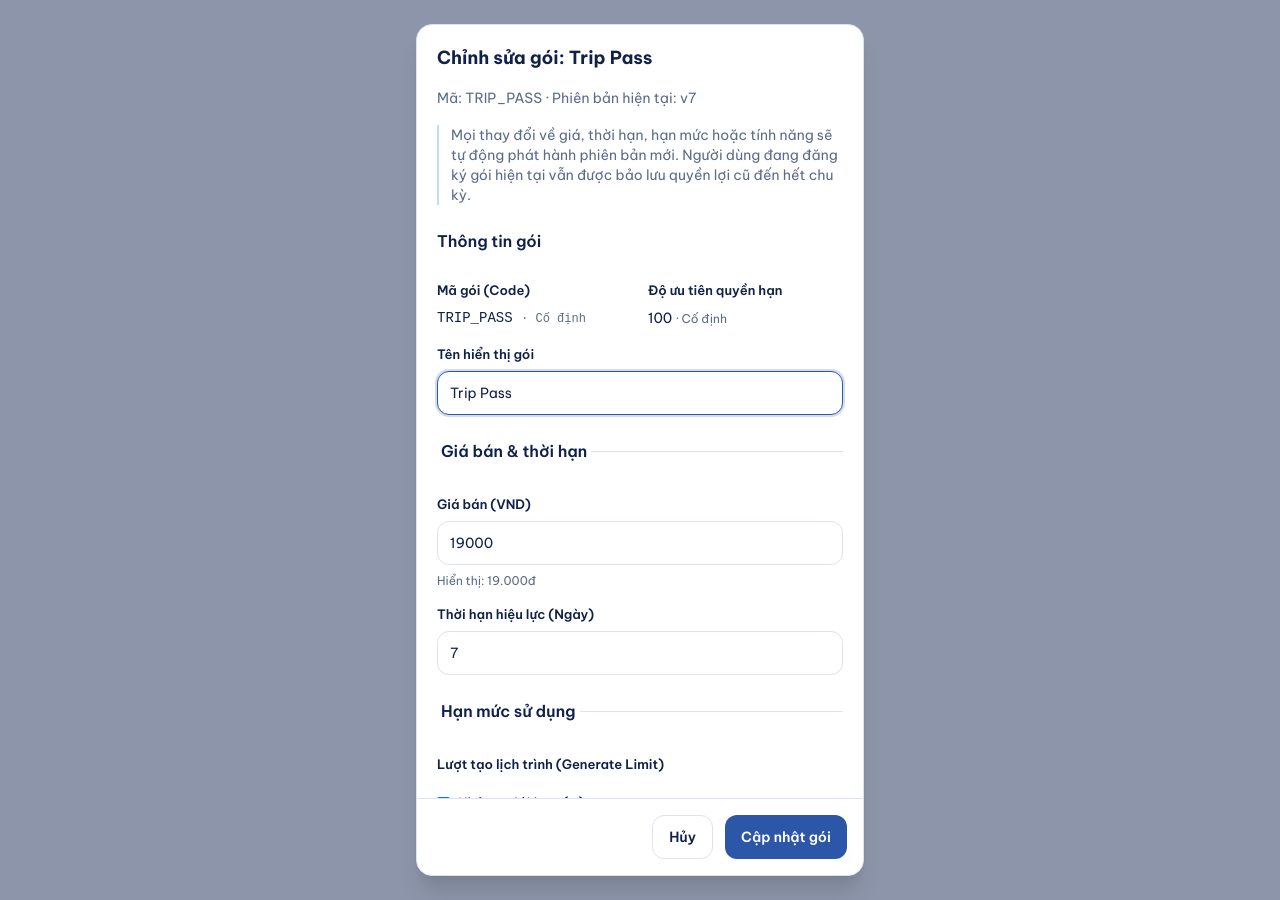
A5 Plans preservation and responsive interactions › invalid_plan_data shows the general message and the error under the AI field
Click the button "Cập nhật gói" at (786, 837), box top-left (725, 815), bottom-right (847, 859)
(page scrolled)
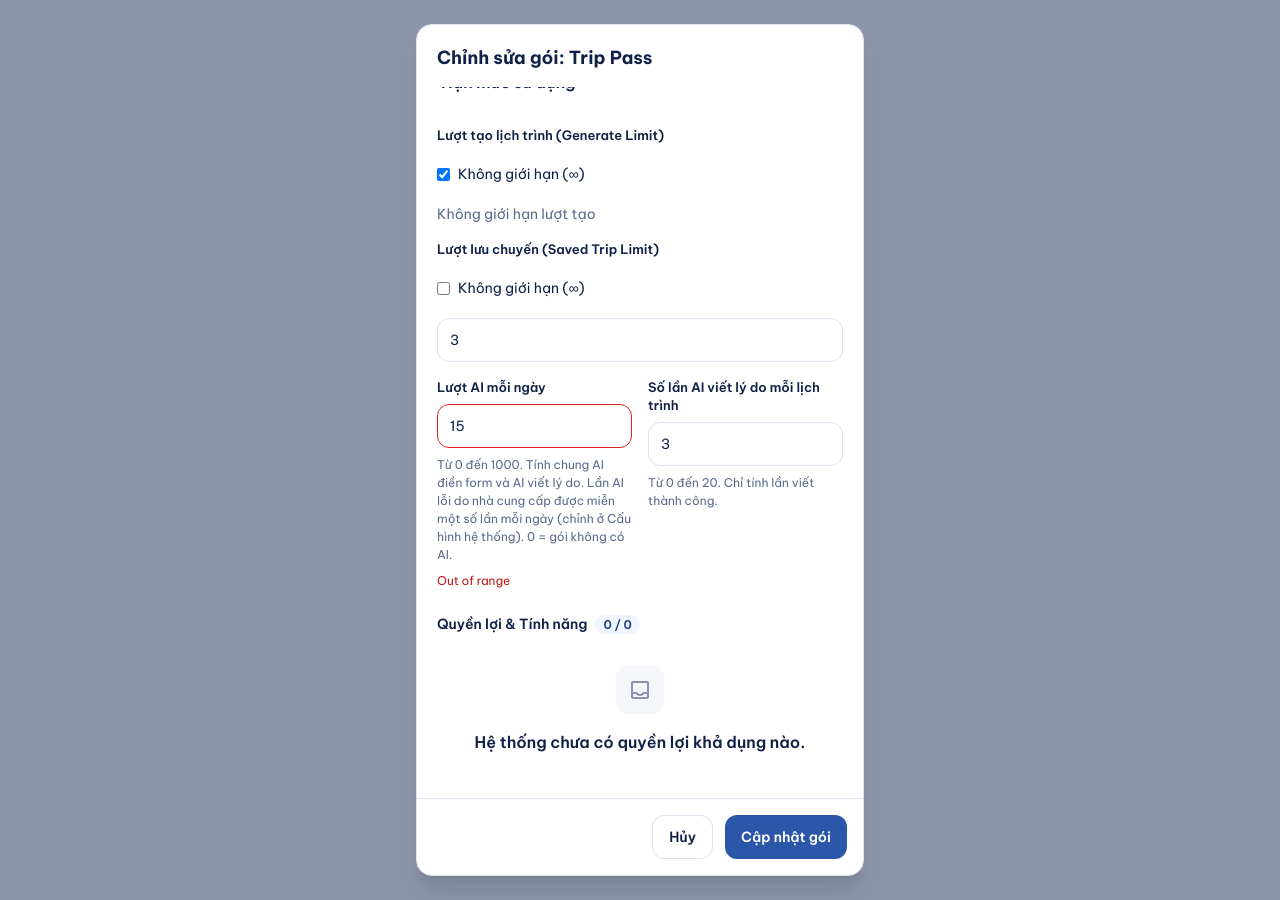
Check: the text "Out of range" is shown, box top-left (437, 573), bottom-right (510, 588)
